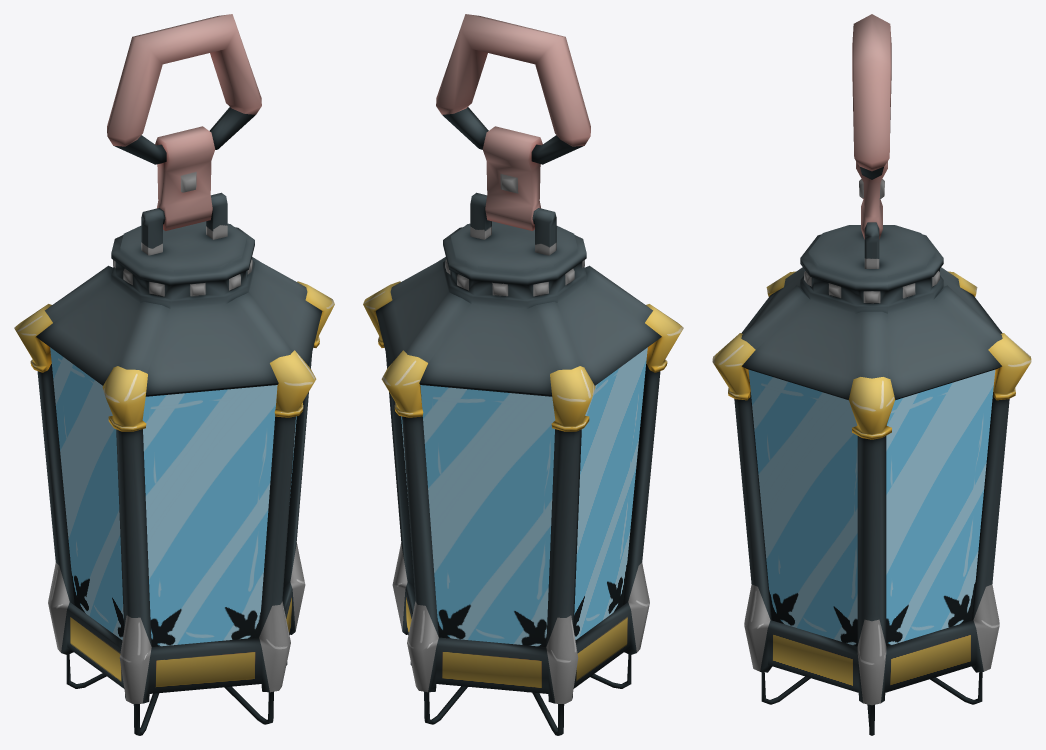
Rendered from lamp.fbx.
The picture shows the model from 3 angles, left to right: view 1: azimuth 30°, elevation 25°; view 2: azimuth 150°, elevation 25°; view 3: azimuth 270°, elevation 25°; orthographic projection. The views are drawn at different scales.
Parts seen in each view (by area): view 1: cage, grass, bangle, belt; view 2: cage, grass, bangle, belt; view 3: cage, grass, bangle, belt.
Boxes of the visible parts, x1,y1,x2,y2 form: cage: (14,221,334,735); grass: (50,347,296,646); bangle: (107,14,261,164); belt: (141,126,227,255); cage: (363,221,683,735); grass: (401,347,647,646); bangle: (436,14,590,164); belt: (470,126,556,255); cage: (712,225,1031,735); grass: (748,369,995,646); bangle: (852,14,891,179); belt: (856,161,887,268).
Size of the model in its own units: 2.17 by 5.11 by 2.26.
